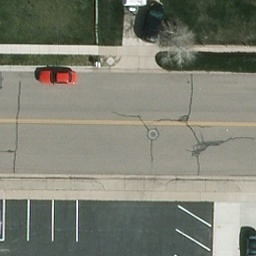camping car: (122, 0, 148, 12)
car: (140, 1, 166, 45), (38, 71, 76, 86)
